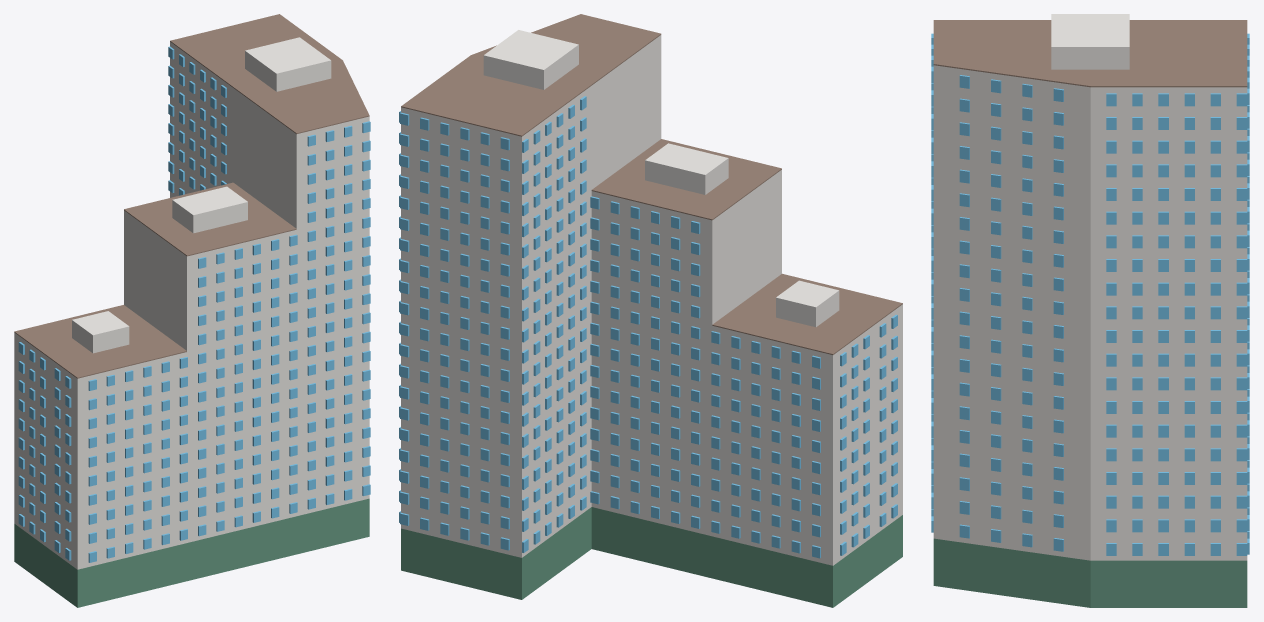
Rendered from ChungcuLienKe.glb.
The picture shows the model from 3 angles, left to right: view 1: azimuth 30°, elevation 25°; view 2: azimuth 150°, elevation 25°; view 3: azimuth 270°, elevation 25°; orthographic projection. The views are drawn at different scales.
Visible parts, largest first — view 1: Block_A, Block_B, All_Windows, Block_C, Podium_Base, Roof_A, Roof_C, Roof_B, Penthouse_A, Penthouse_B, Penthouse_C; view 2: Block_A, All_Windows, Block_B, Block_C, Podium_Base, Roof_A, Roof_C, Roof_B, Penthouse_A, Penthouse_B, Penthouse_C; view 3: Block_A, All_Windows, Roof_A, Podium_Base, Penthouse_A.
Part boxes in pixels (x1=…): Block_A: x1=170, y1=42, x2=369, y2=515; Block_B: x1=124, y1=210, x2=296, y2=542; All_Windows: x1=18, y1=46, x2=370, y2=562; Block_C: x1=14, y1=333, x2=186, y2=569; Podium_Base: x1=14, y1=498, x2=369, y2=607; Roof_A: x1=170, y1=14, x2=369, y2=134; Roof_C: x1=14, y1=305, x2=186, y2=378; Roof_B: x1=124, y1=182, x2=296, y2=256; Penthouse_A: x1=245, y1=37, x2=331, y2=91; Penthouse_B: x1=172, y1=186, x2=247, y2=233; Penthouse_C: x1=72, y1=311, x2=129, y2=353; Block_A: x1=401, y1=35, x2=661, y2=557; All_Windows: x1=399, y1=96, x2=897, y2=558; Block_B: x1=591, y1=170, x2=781, y2=536; Block_C: x1=712, y1=304, x2=902, y2=565; Podium_Base: x1=401, y1=507, x2=902, y2=607; Roof_A: x1=401, y1=14, x2=661, y2=136; Roof_C: x1=712, y1=273, x2=902, y2=354; Roof_B: x1=591, y1=139, x2=781, y2=220; Penthouse_A: x1=483, y1=30, x2=578, y2=89; Penthouse_B: x1=645, y1=143, x2=728, y2=194; Penthouse_C: x1=776, y1=280, x2=839, y2=327; Block_A: x1=933, y1=65, x2=1247, y2=560; All_Windows: x1=931, y1=33, x2=1249, y2=555; Roof_A: x1=933, y1=20, x2=1247, y2=87; Podium_Base: x1=933, y1=538, x2=1247, y2=607; Penthouse_A: x1=1051, y1=14, x2=1129, y2=69.
Size of the model in its own units: 18.2 by 23 by 12.2.
